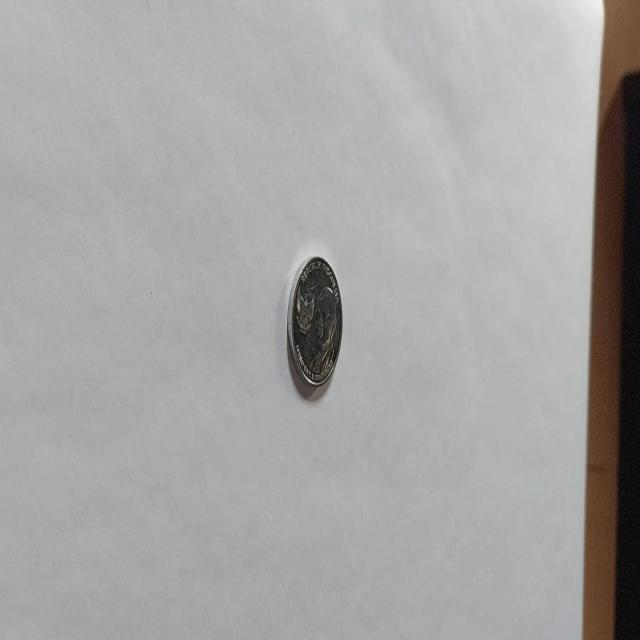lima ratus rupiah: (286, 254, 343, 390)
